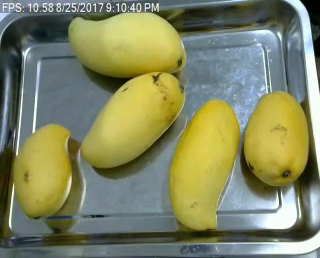Mango: (75, 71, 187, 168), (169, 96, 245, 228), (62, 12, 187, 80), (11, 119, 76, 221), (243, 90, 309, 183)
